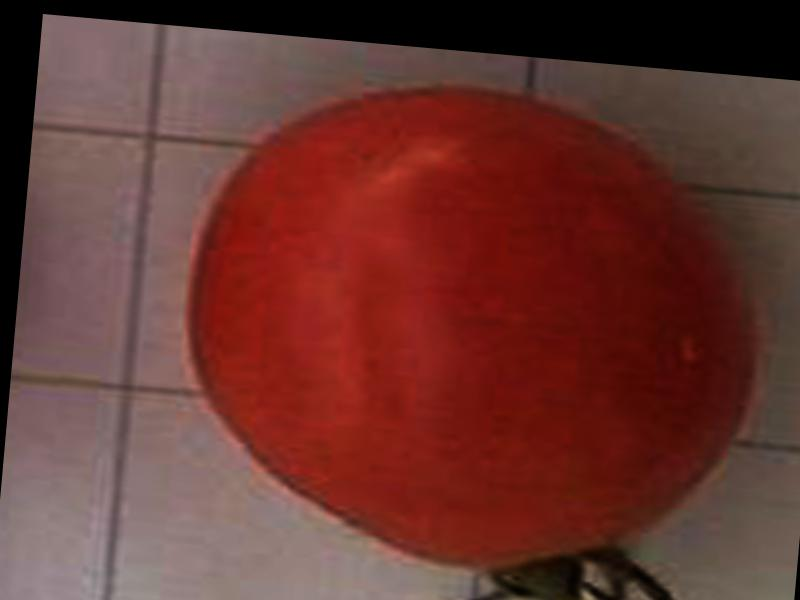Tomato: (169, 65, 777, 591)
